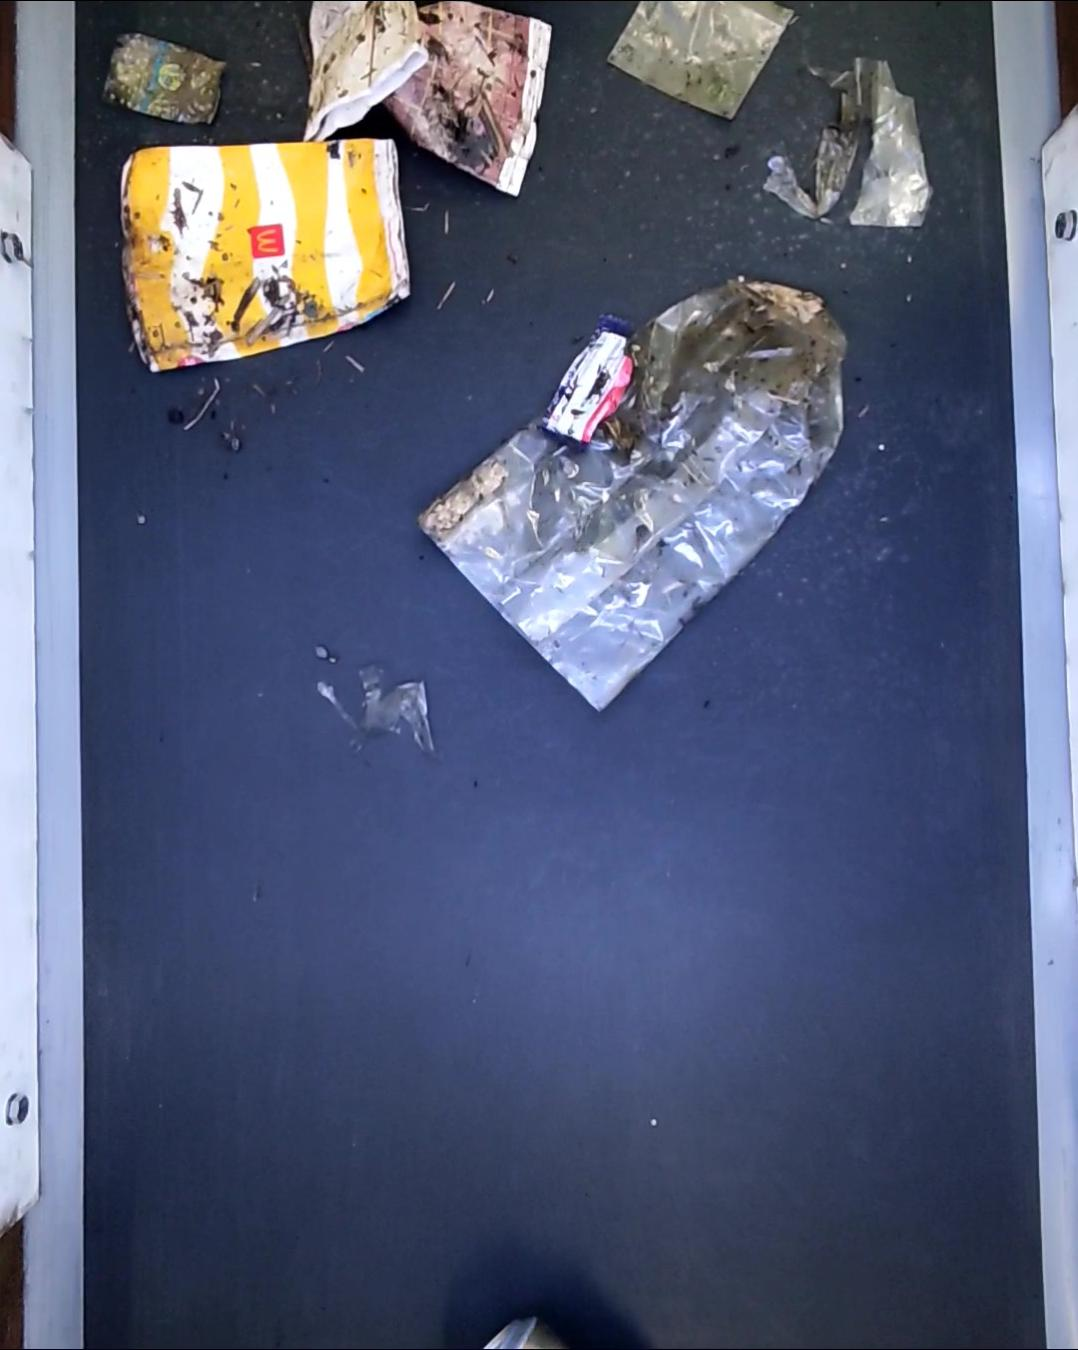Drankblikjes: (481, 1318, 573, 1350)
Plastic folies of stukken daarvan 2.5- 50 cm: (414, 270, 850, 718), (762, 63, 932, 231), (598, 0, 783, 113), (321, 661, 437, 753)
Snoep snack en chips verpakkingen: (544, 309, 637, 443), (103, 28, 226, 127)
